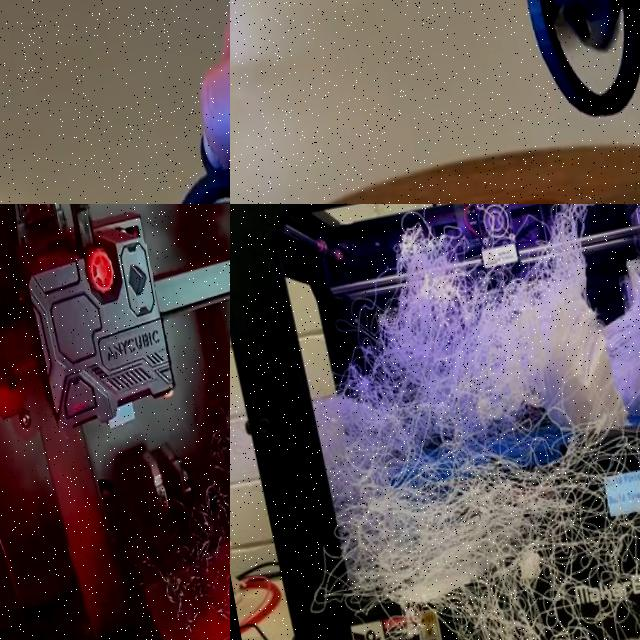spaghetti: (271, 204, 640, 640), (105, 336, 230, 640)
